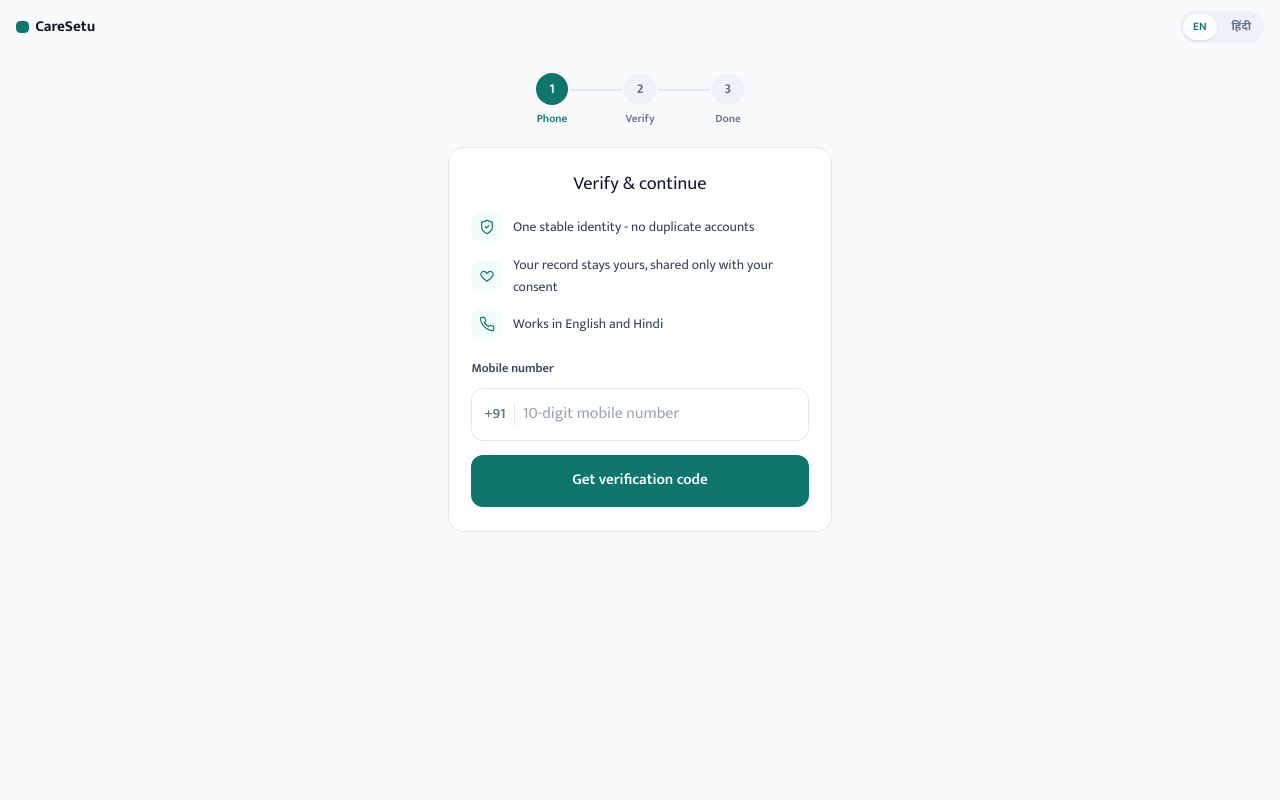
PatientAuthWizard - phone step › normalizes a valid number and moves to the verify step
Type "9876543210" into the field with placeholder "10-digit mobile number" at (659, 414), box top-left (523, 389), bottom-right (796, 440)
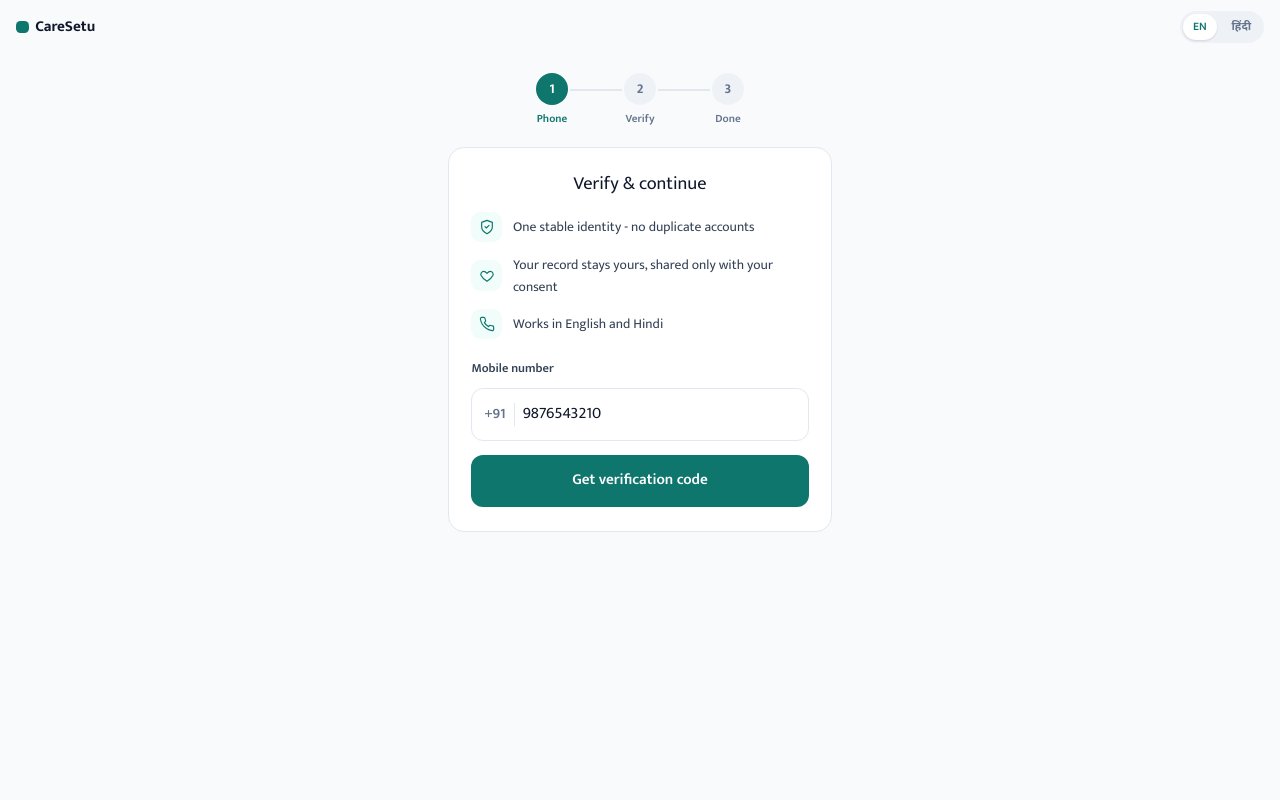
Click the button "Get verification code" at (640, 481), box top-left (471, 455), bottom-right (809, 507)
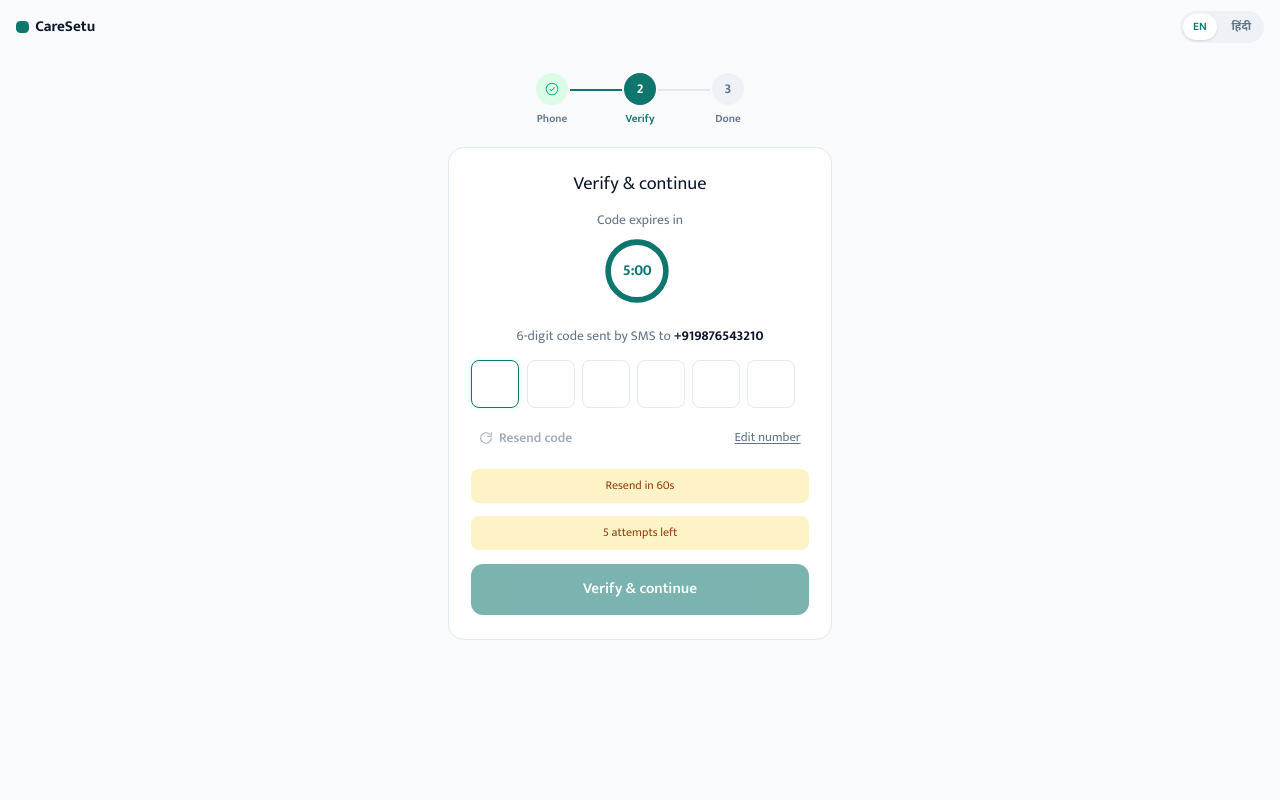
Result: the text "6-digit code sent by SMS to +919876543210" is shown at top-left (516, 324), bottom-right (763, 346)
Result: the text "+919876543210" is shown at top-left (674, 324), bottom-right (764, 346)
Result: the button "Verify & continue" is shown at top-left (471, 564), bottom-right (809, 616)
